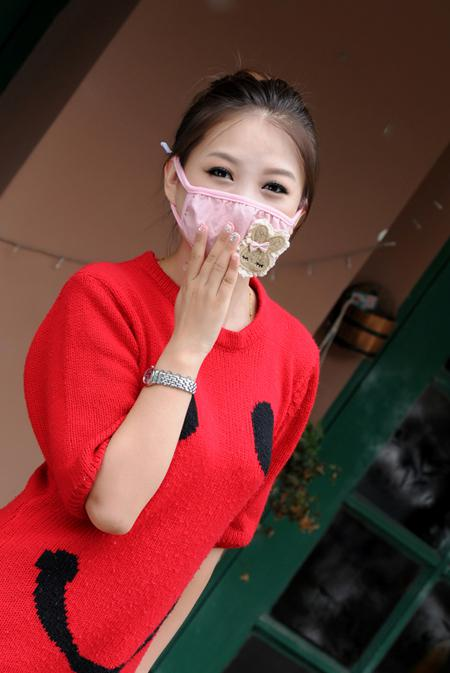OK: (180, 146, 305, 271)
